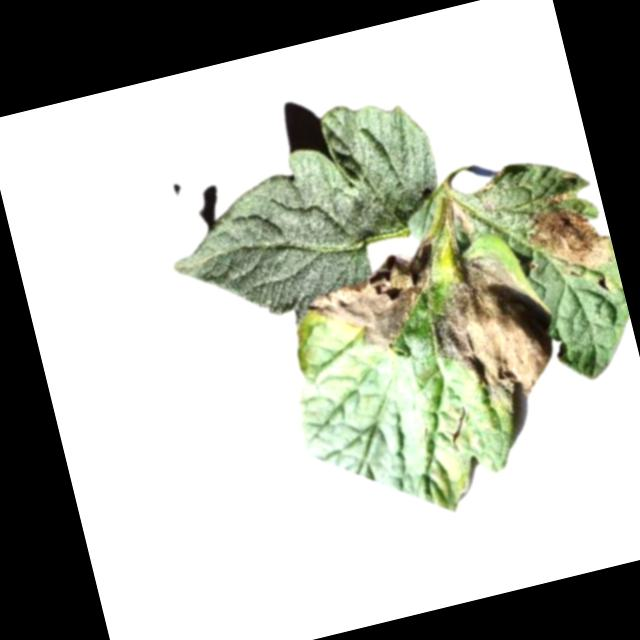Late_blight: (412, 238, 570, 426), (296, 237, 456, 367), (519, 195, 617, 286), (447, 195, 477, 240), (538, 189, 579, 209)
